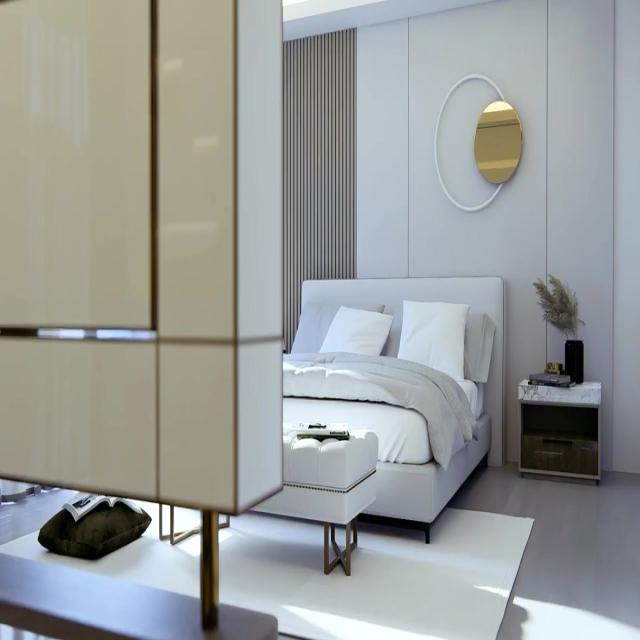obstacle: (278, 275, 504, 545), (517, 378, 601, 484)
